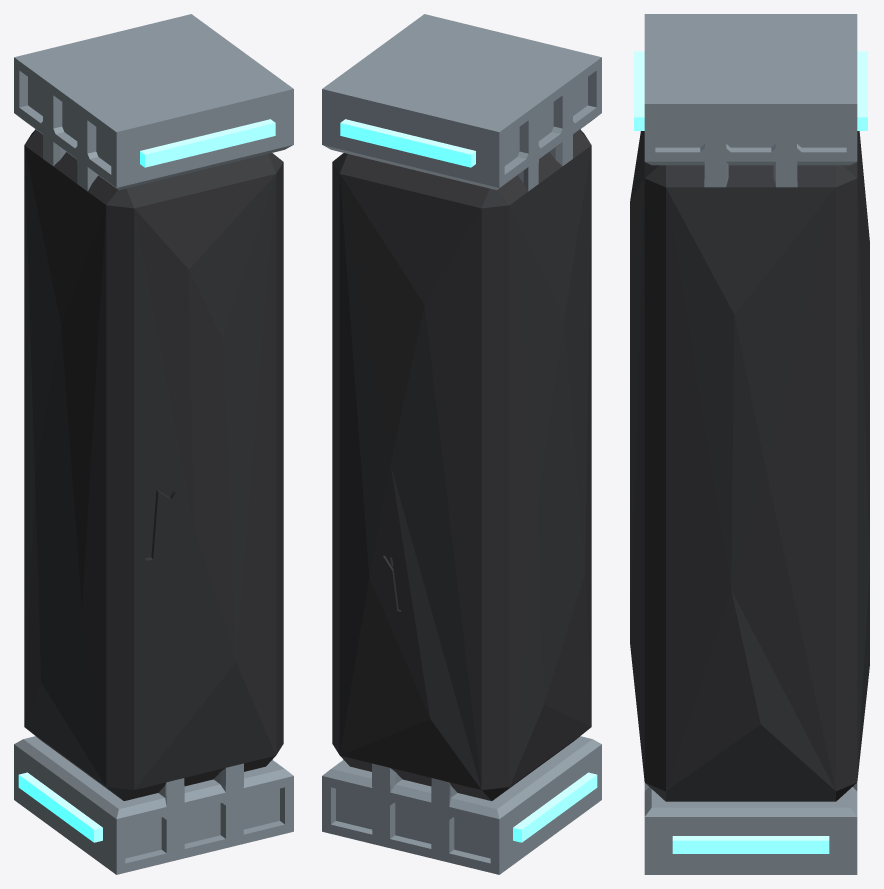
Rendered from Pillar_Large_2.fbx.
The picture shows the model from 3 angles, left to right: view 1: azimuth 30°, elevation 25°; view 2: azimuth 150°, elevation 25°; view 3: azimuth 270°, elevation 25°; orthographic projection. The views are drawn at different scales.
Parts seen in each view (by area): view 1: Pillar_Large_2; view 2: Pillar_Large_2; view 3: Pillar_Large_2.
Boxes of the visible parts, x1,y1,x2,y2 form: Pillar_Large_2: (14,14,293,874); Pillar_Large_2: (322,14,601,874); Pillar_Large_2: (630,14,869,874).
Size of the model in its own units: 4.53 by 16 by 4.51.
